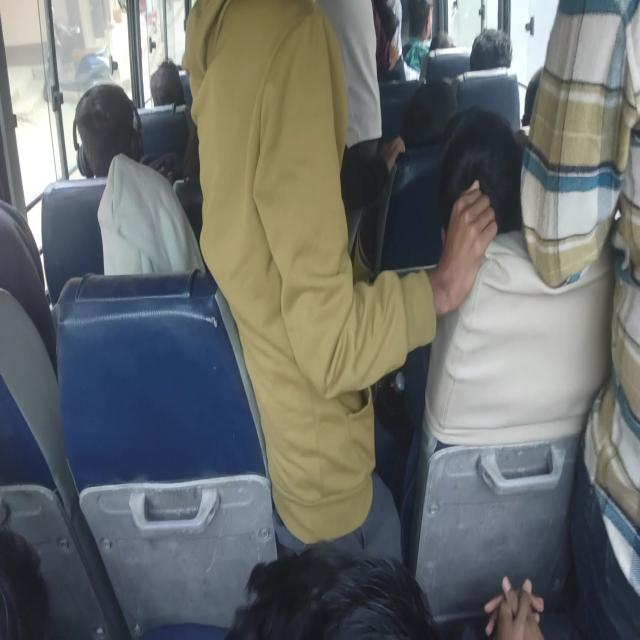person: (188, 1, 384, 428), (542, 0, 640, 635), (216, 554, 455, 640), (288, 0, 384, 157), (100, 167, 172, 283), (446, 138, 508, 250), (0, 210, 40, 372), (79, 75, 129, 154), (471, 29, 516, 78), (412, 84, 451, 139), (146, 64, 188, 114), (432, 25, 456, 72), (409, 0, 433, 38)
